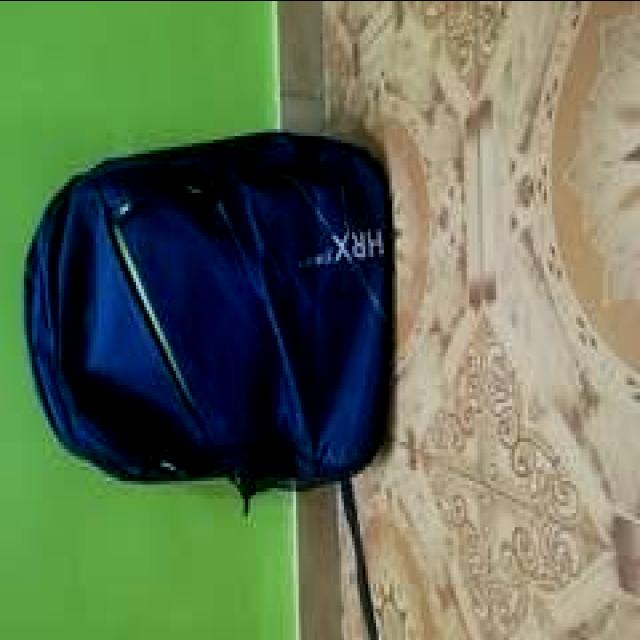backpack: (22, 133, 392, 640)
